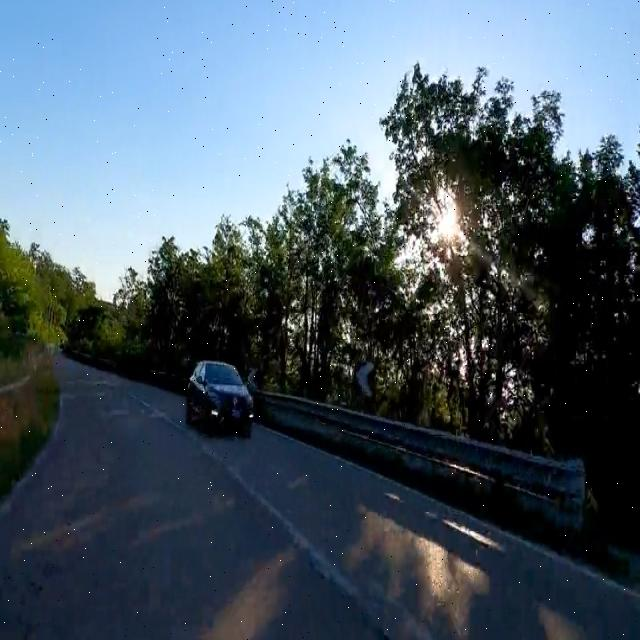lane: (1, 354, 640, 638), (201, 444, 366, 608), (156, 412, 186, 434)
road: (1, 354, 640, 638)
